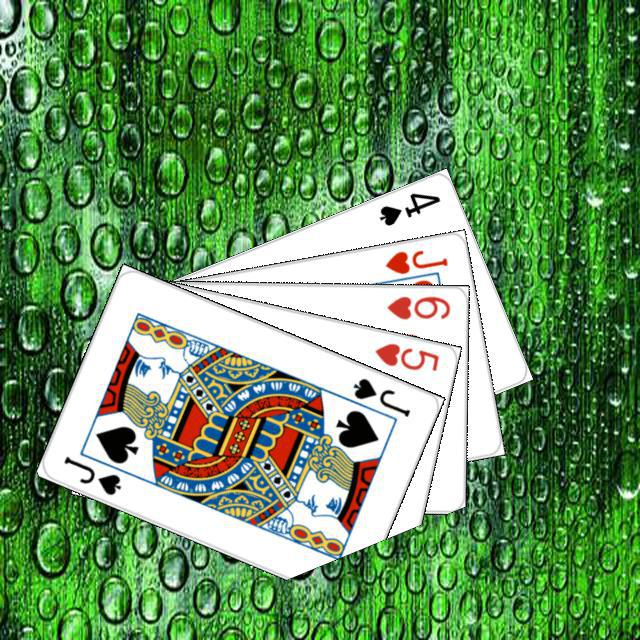4s: (374, 187, 442, 228)
5h: (369, 338, 441, 373)
6h: (382, 291, 452, 321)
Jh: (380, 245, 450, 276)
Js: (348, 373, 412, 419), (59, 451, 123, 497)
